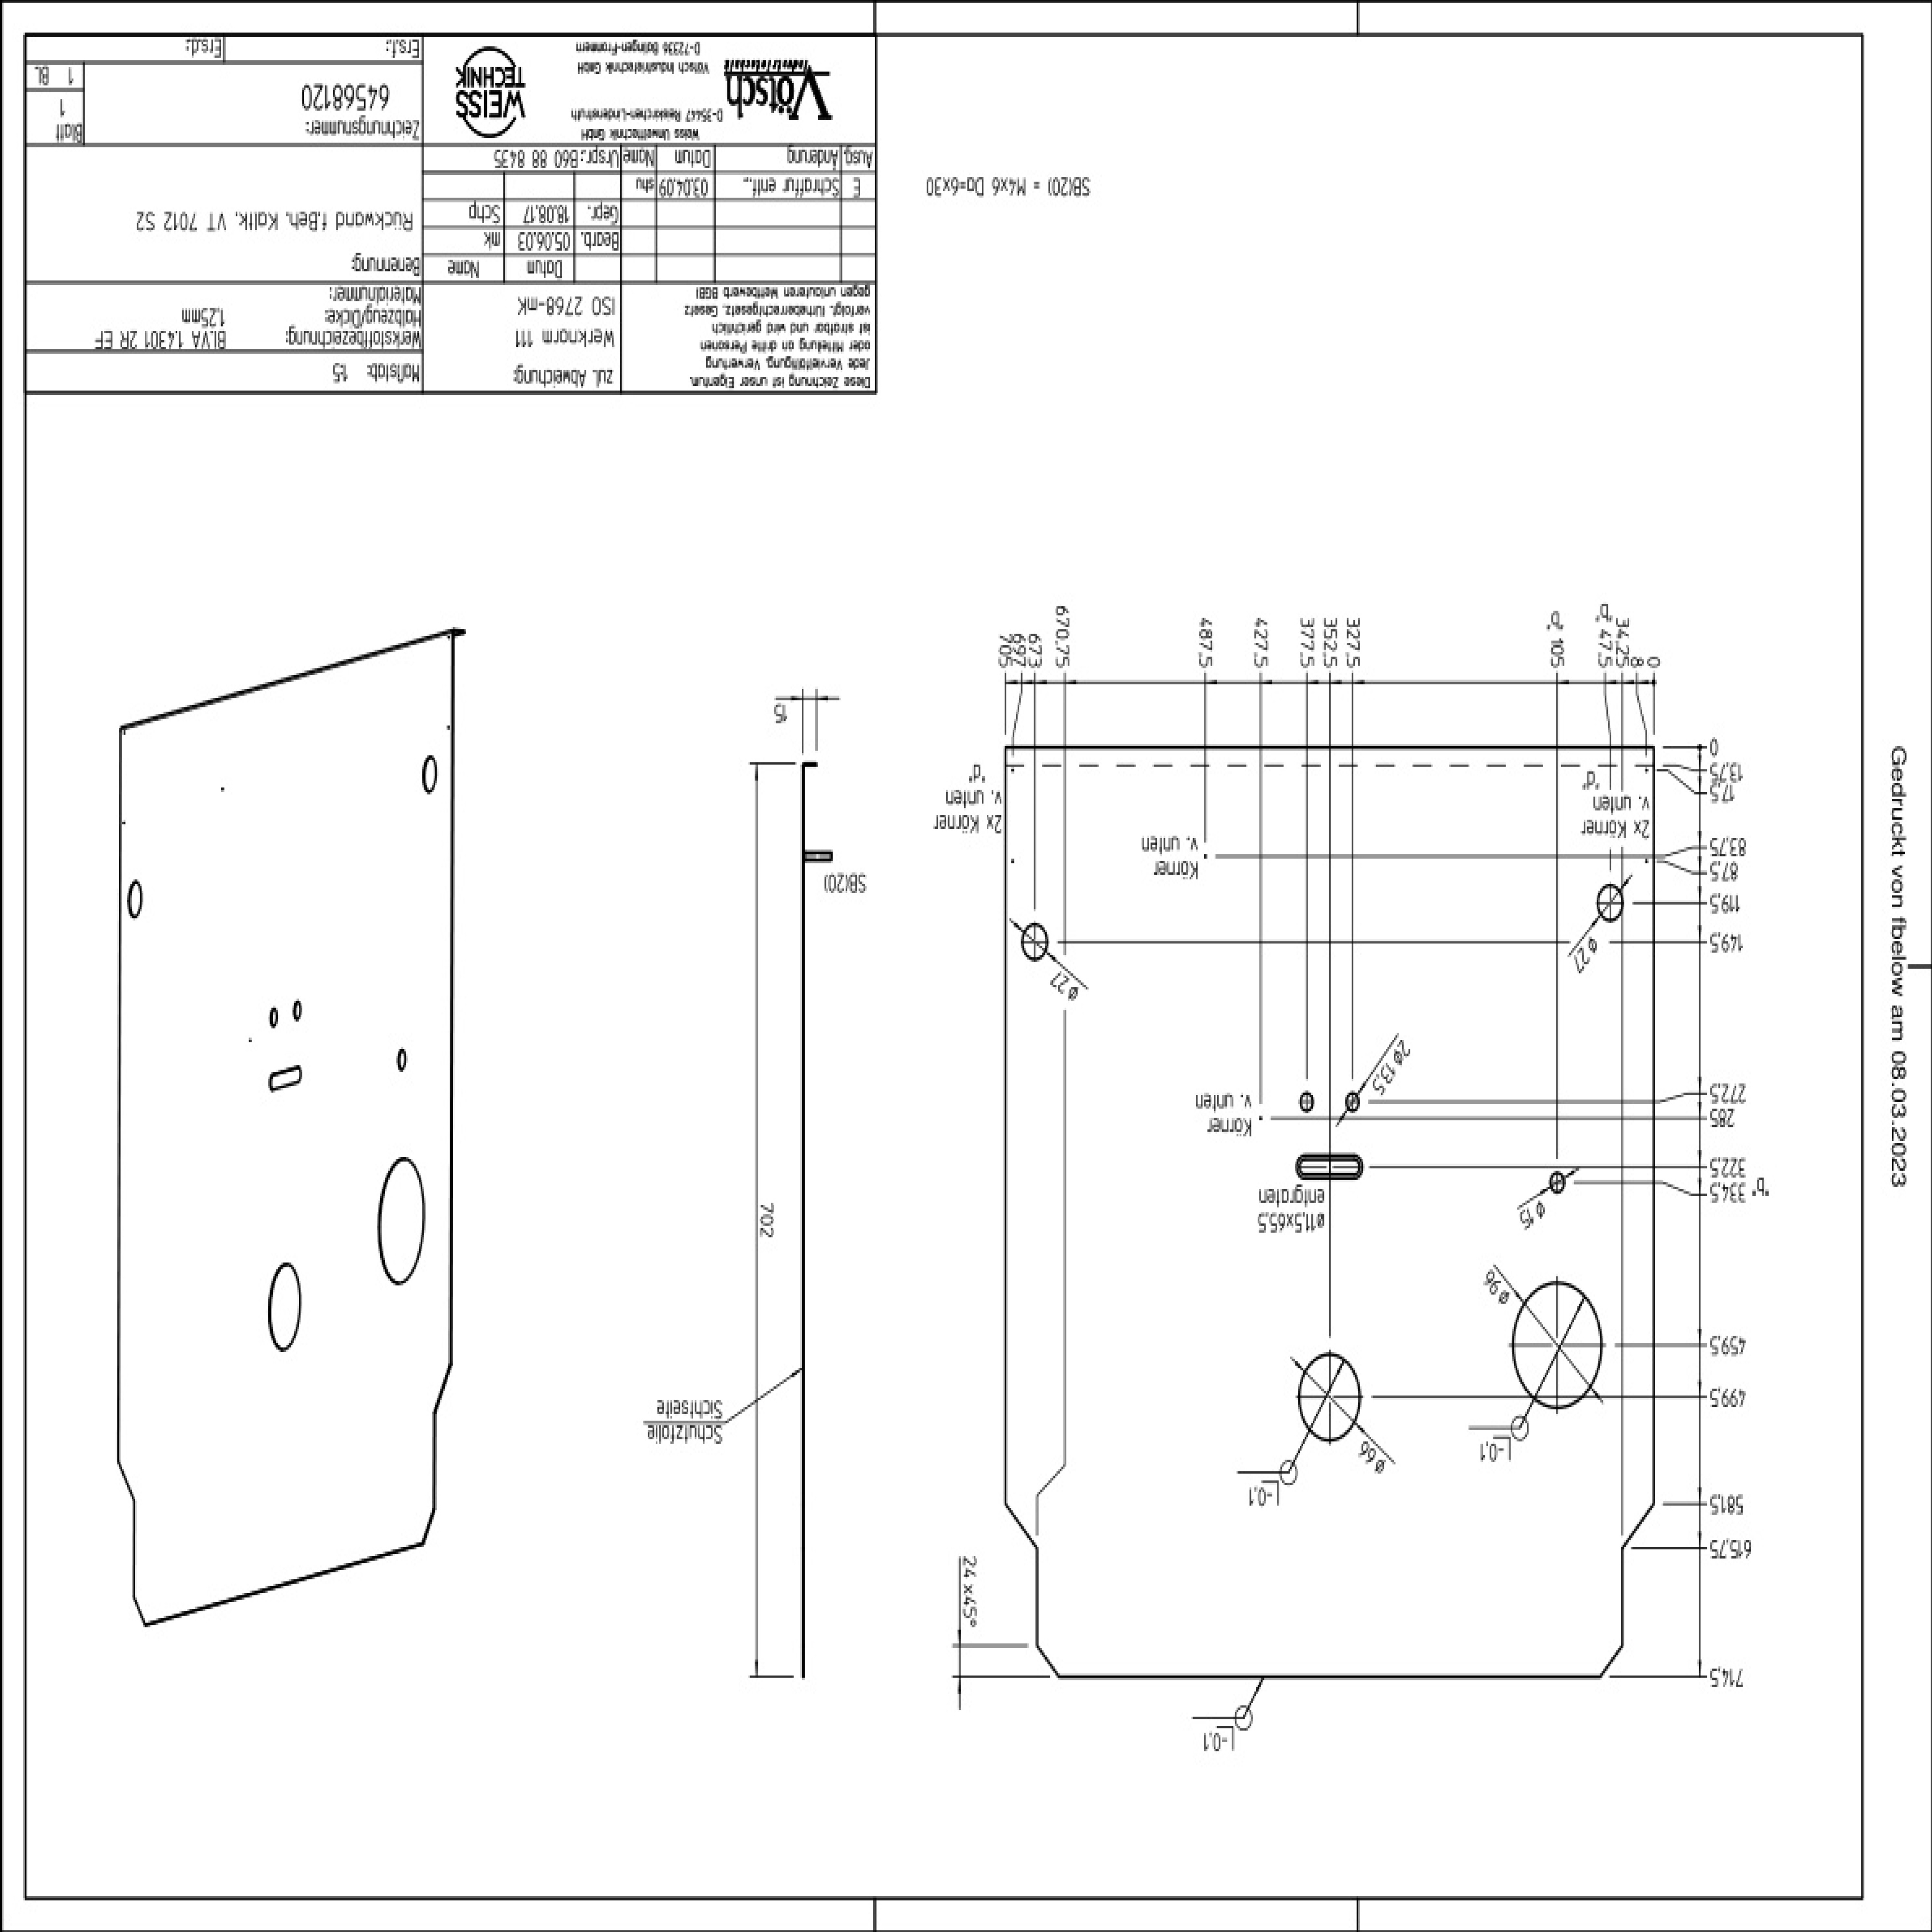InnerContour: (1507, 1279, 1606, 1412), (1293, 1350, 1362, 1444), (377, 1155, 426, 1284), (1292, 1143, 1368, 1194), (267, 1260, 303, 1353), (260, 1063, 310, 1099), (1017, 922, 1051, 962), (1594, 883, 1626, 924), (419, 755, 441, 794), (127, 876, 143, 918), (1297, 1090, 1318, 1115), (1546, 1171, 1566, 1196), (393, 1047, 409, 1074), (1345, 1092, 1362, 1111), (267, 1005, 280, 1030), (292, 1000, 303, 1021)
